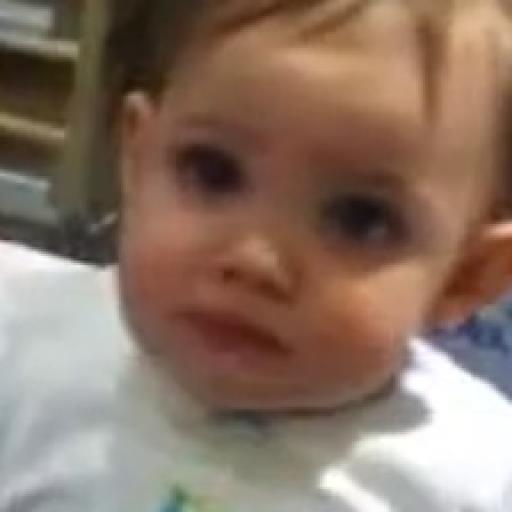Autism: (116, 10, 512, 394)
